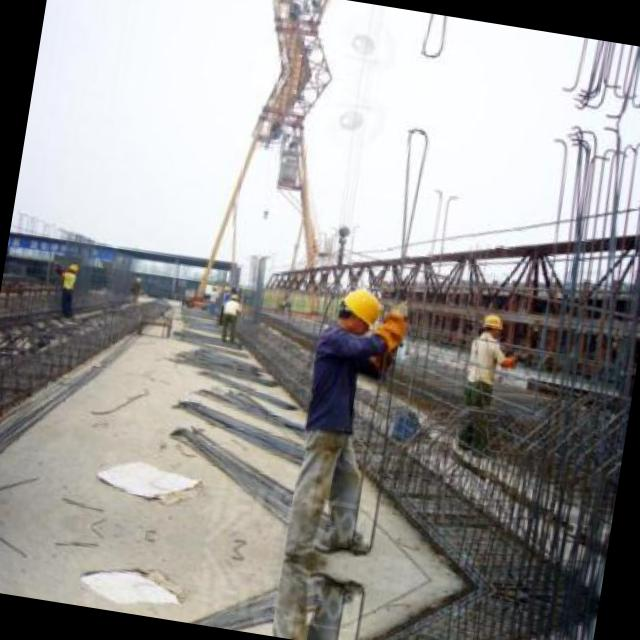helmet: (334, 284, 384, 338), (479, 310, 506, 338), (63, 260, 79, 276)
